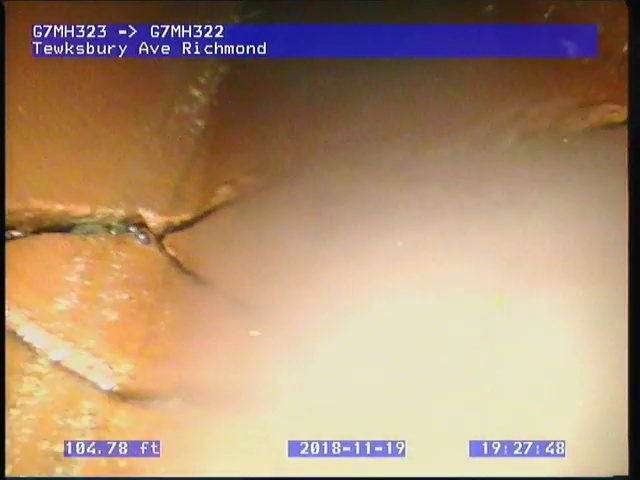crack: (8, 183, 246, 291), (587, 102, 628, 134)
